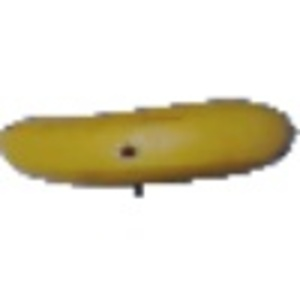banana: (1, 93, 299, 188)
